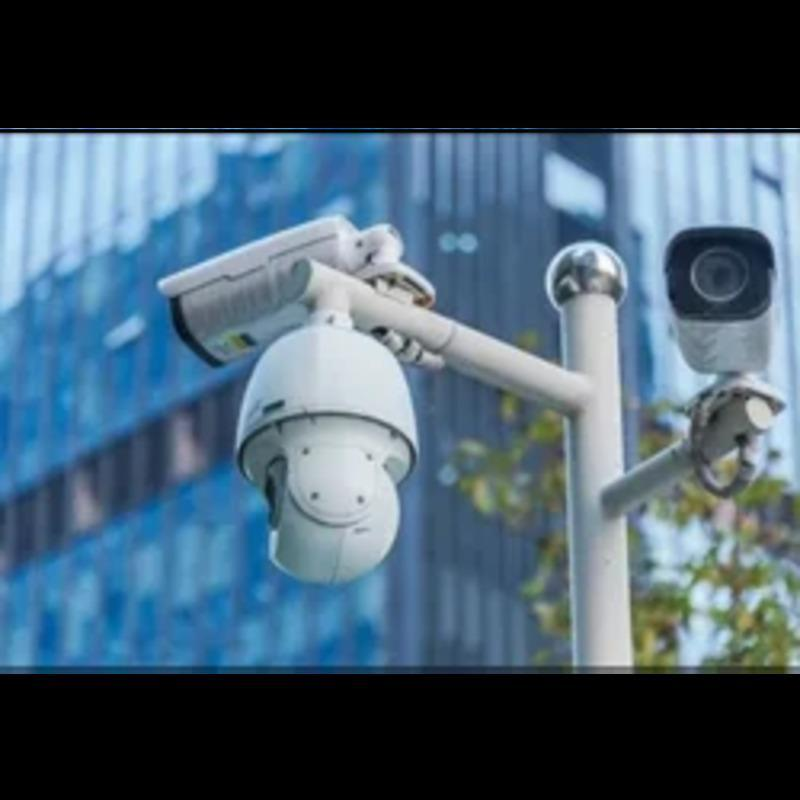box: (142, 280, 383, 377), (658, 220, 780, 375)
ptz: (228, 346, 426, 587)
